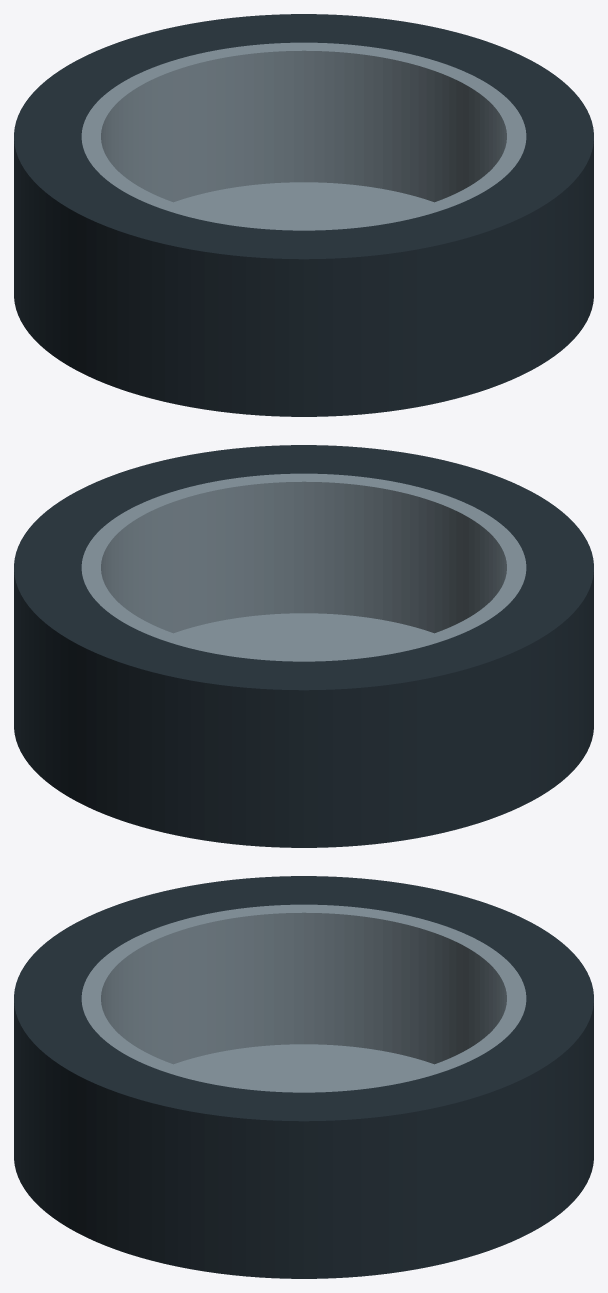
Rendered from wheel-left.glb.
The picture shows the model from 3 angles, top to bottom: view 1: azimuth 30°, elevation 25°; view 2: azimuth 150°, elevation 25°; view 3: azimuth 270°, elevation 25°; orthographic projection.
Visible parts, largest first — view 1: 大弹丸发射摩擦轮FinVer001, 大弹丸发射摩擦轮FinVer; view 2: 大弹丸发射摩擦轮FinVer001, 大弹丸发射摩擦轮FinVer; view 3: 大弹丸发射摩擦轮FinVer001, 大弹丸发射摩擦轮FinVer.
Boxes of the visible parts, x1,y1,x2,y2 form: 大弹丸发射摩擦轮FinVer001: [14, 14, 593, 416]; 大弹丸发射摩擦轮FinVer: [81, 42, 526, 230]; 大弹丸发射摩擦轮FinVer001: [14, 445, 593, 847]; 大弹丸发射摩擦轮FinVer: [81, 473, 526, 661]; 大弹丸发射摩擦轮FinVer001: [14, 876, 593, 1278]; 大弹丸发射摩擦轮FinVer: [81, 904, 526, 1092].
Size of the model in its own units: 60 by 18 by 59.98.
